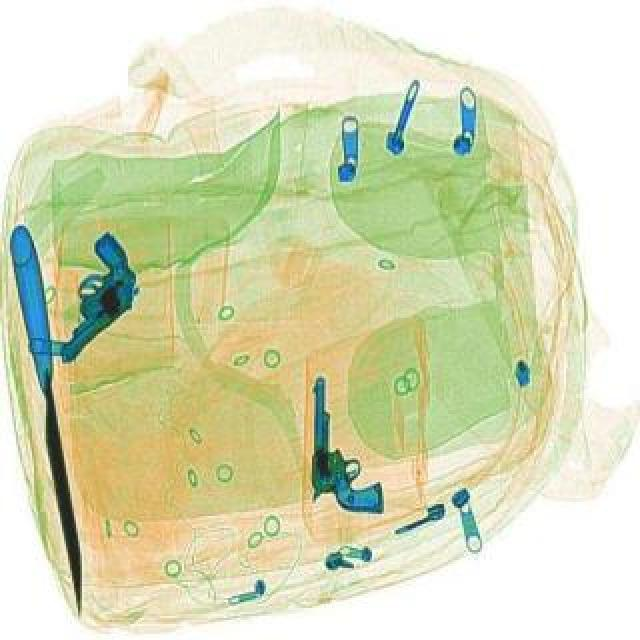gun: (14, 226, 162, 364), (304, 374, 390, 510)
knife: (2, 222, 98, 616)
